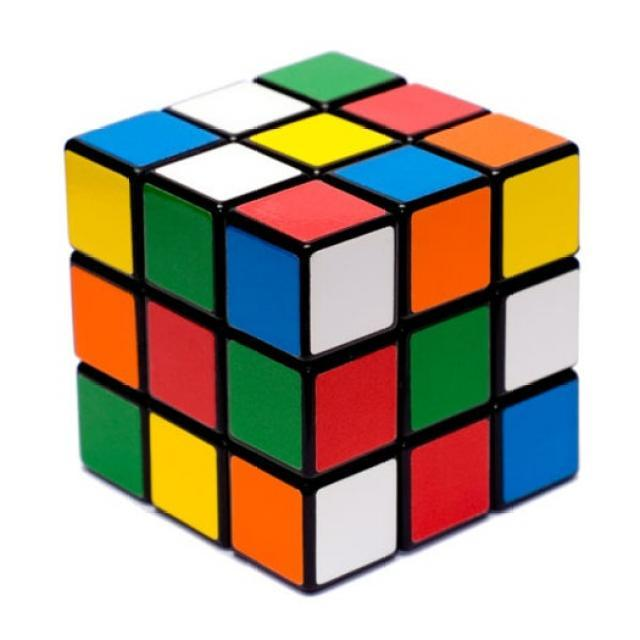Rub: (59, 40, 586, 594)
